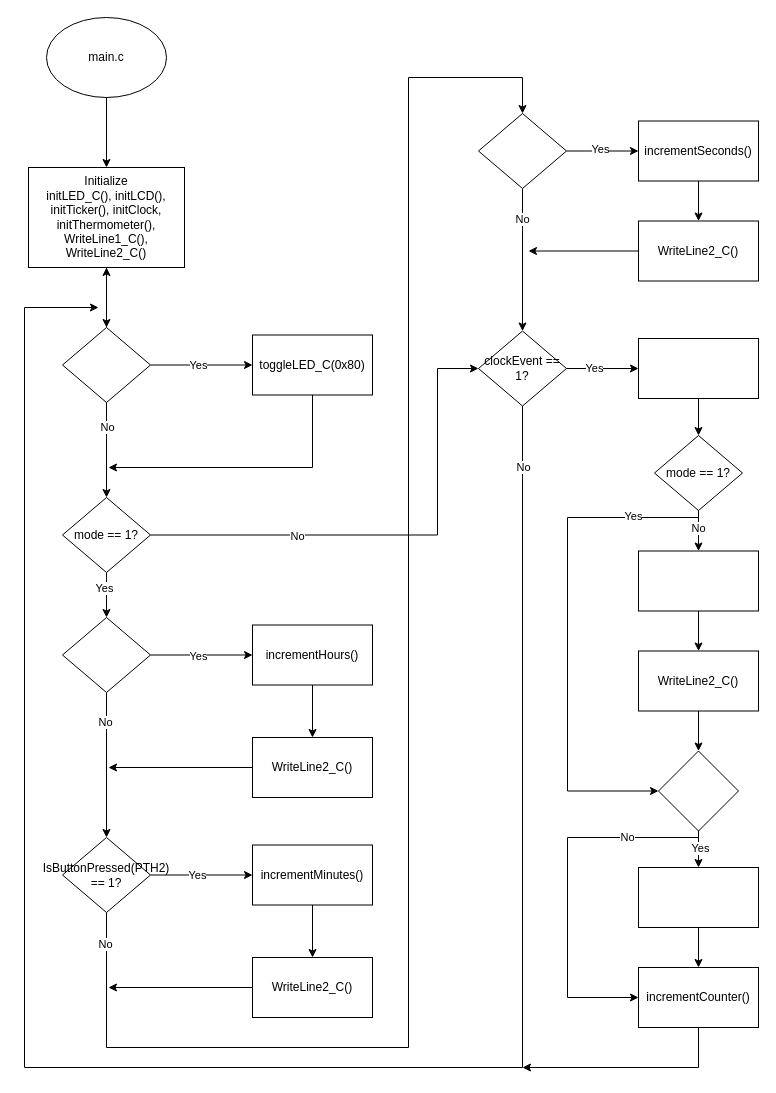
Image size: 776x1093. Some labels were removed from this diagram. Each missing label, with the box of its shape:
counter == 9?: (658, 750, 738, 831)
isButtonPressed(PTH0) == 1?: (62, 326, 150, 402)
IsButtonPressed(PTH1) == 1?: (62, 616, 150, 692)
IsButtonPressed(PTH3) == 1?: (478, 112, 566, 188)
tickClock(): (638, 550, 758, 611)
toggleLED_C(0x01): (638, 338, 758, 398)
WriteLine1_C(): (638, 866, 758, 928)
